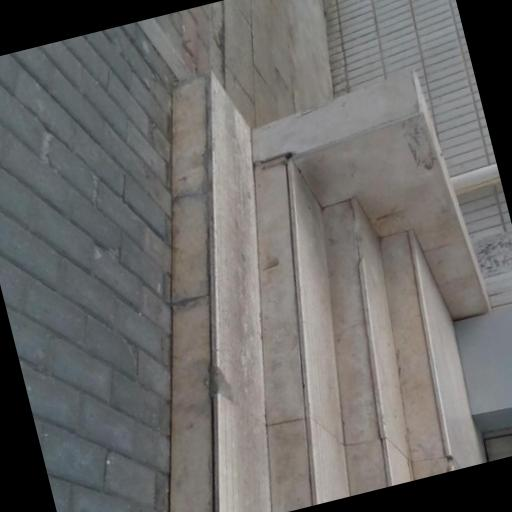stairs: (170, 76, 472, 511)
